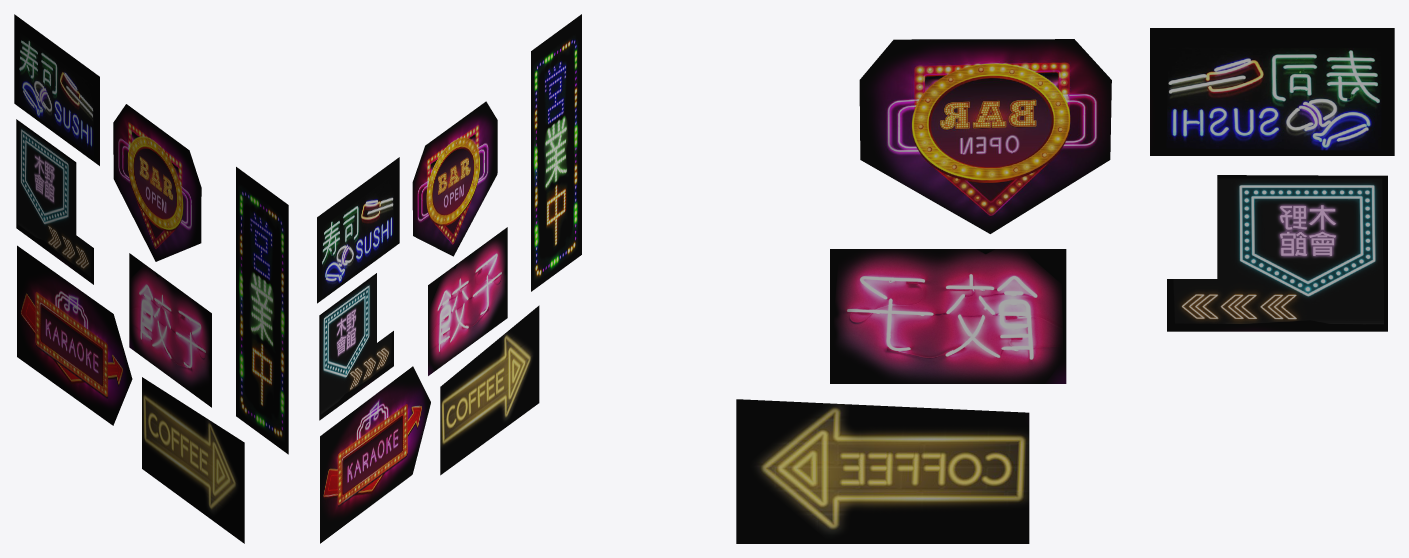
Rendered from neon_signs.FBX.
The picture shows the model from 3 angles, left to right: view 1: azimuth 30°, elevation 25°; view 2: azimuth 150°, elevation 25°; view 3: azimuth 270°, elevation 25°; orthographic projection. The views are drawn at different scales.
Visible parts, largest first — view 1: L07, L03, L06, L04, L05, L01, L02; view 2: L07, L03, L06, L04, L05, L01, L02; view 3: L06, L04, L05, L01, L02.
Part boxes in pixels (bbox=[...]): L07: bbox=[236, 167, 288, 454]; L03: bbox=[17, 245, 132, 425]; L06: bbox=[142, 377, 244, 543]; L04: bbox=[113, 104, 201, 261]; L05: bbox=[129, 253, 211, 407]; L01: bbox=[14, 14, 99, 165]; L02: bbox=[16, 119, 93, 284]; L07: bbox=[531, 14, 581, 291]; L03: bbox=[320, 366, 430, 543]; L06: bbox=[440, 305, 539, 475]; L04: bbox=[412, 101, 497, 256]; L05: bbox=[428, 227, 507, 375]; L01: bbox=[317, 157, 399, 303]; L02: bbox=[319, 273, 393, 420]; L06: bbox=[736, 399, 1029, 543]; L04: bbox=[859, 39, 1111, 233]; L05: bbox=[830, 249, 1066, 383]; L01: bbox=[1150, 28, 1394, 155]; L02: bbox=[1167, 175, 1387, 331].
Size of the model in its own units: 2.66e-05 by 34.28 by 45.98.
1 material, 1 textured.
